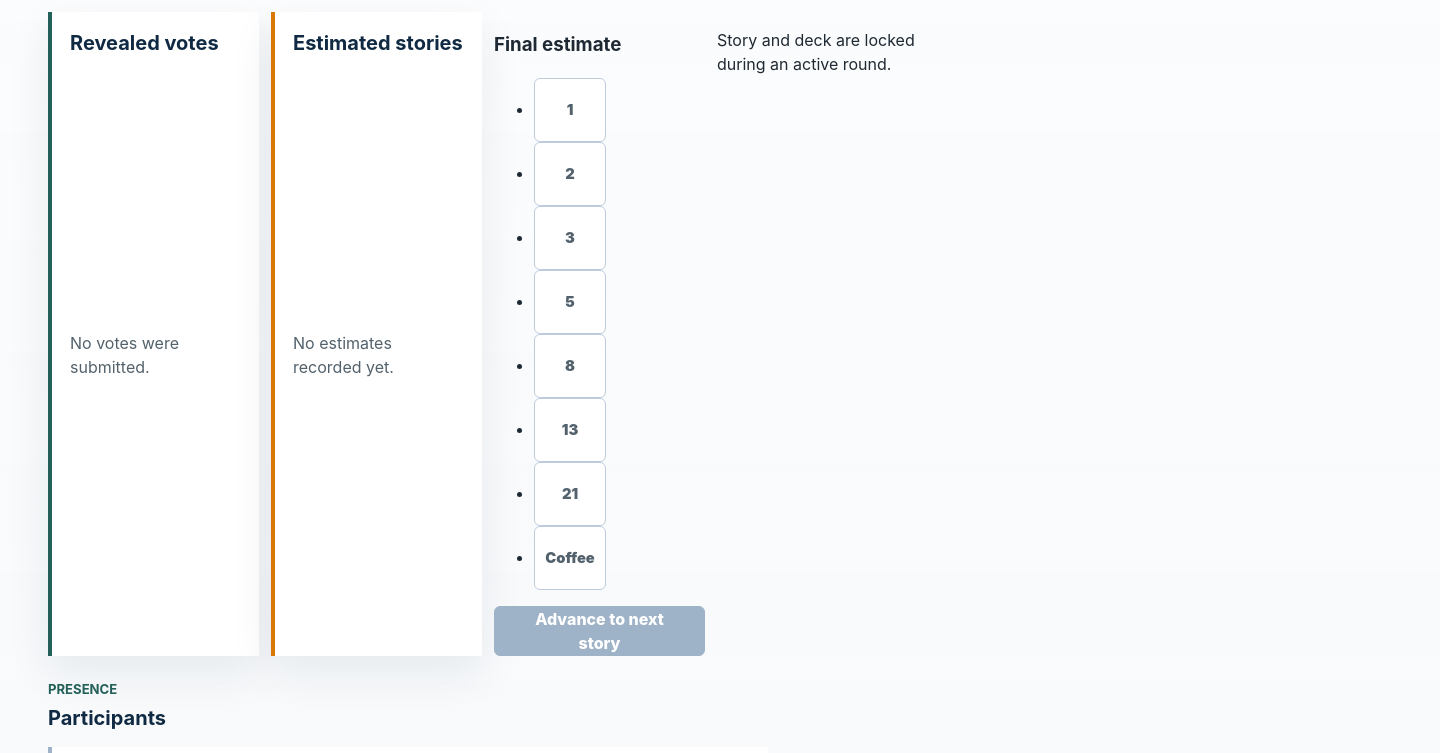
it: ModeratorSessionView › maps final estimate command failures to readable messages
(page scrolled)
Click the button named "Record final estimate 8" at {"x": 570, "y": 366}, box [534,334,606,398]
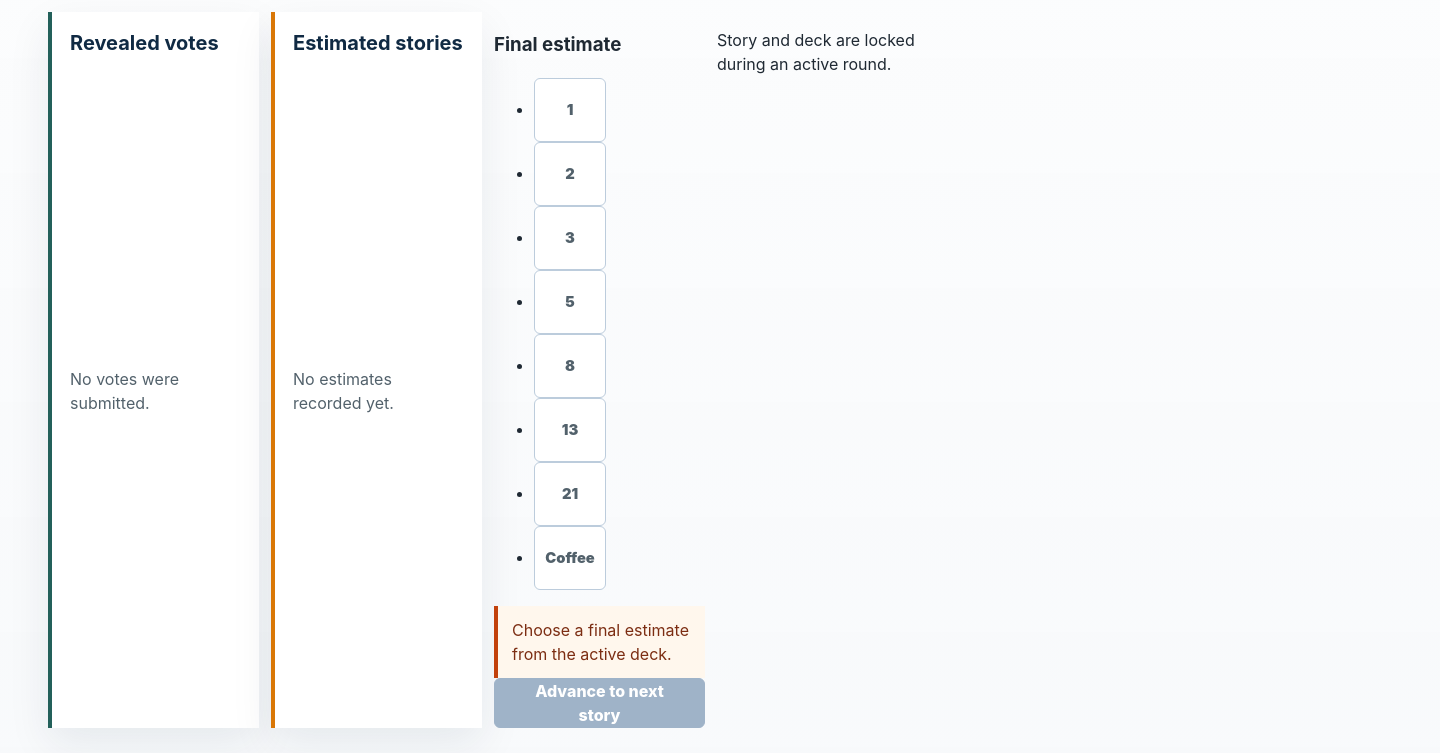
Expected: the message reads "Choose a final estimate from the active deck.", [512,620,689,664]
